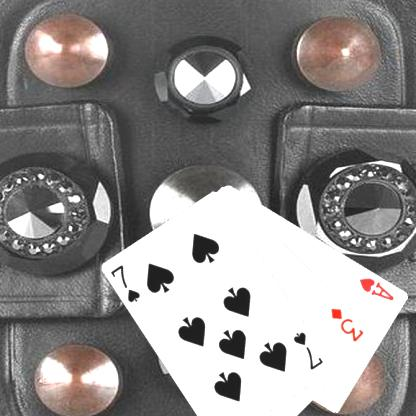3D: (328, 305, 366, 343)
7S: (290, 329, 326, 371), (108, 262, 142, 304)
AH: (357, 274, 396, 302)
